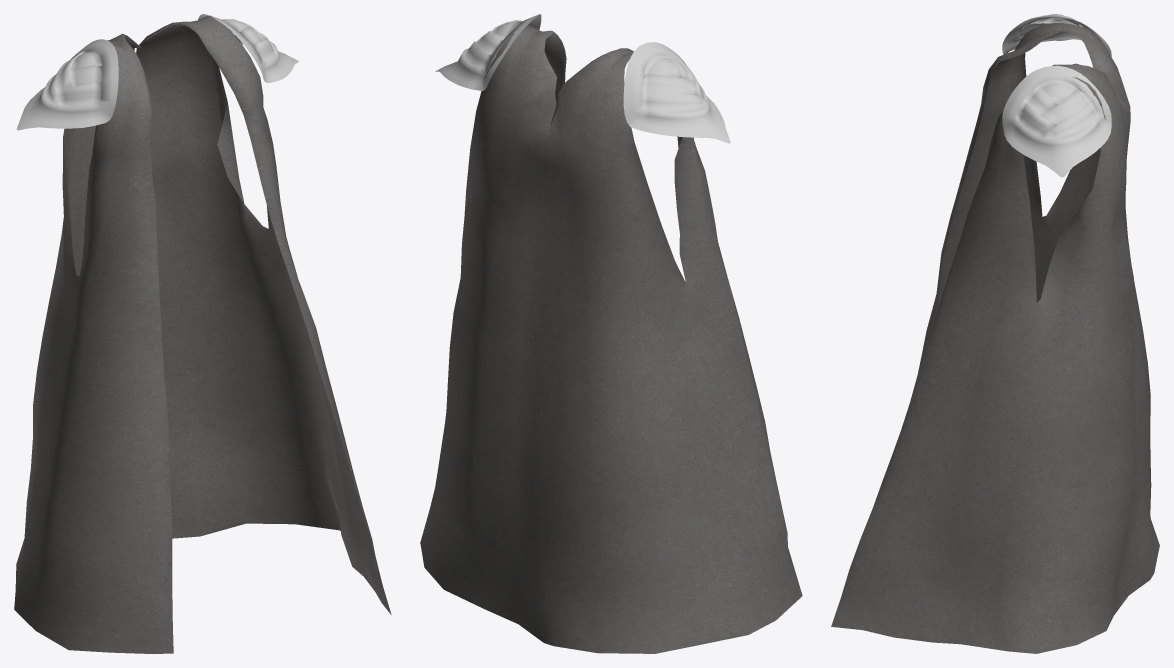
Rendered from rivendell_pauldron_tier2_robe_silver.fbx.
The picture shows the model from 3 angles, left to right: view 1: azimuth 30°, elevation 25°; view 2: azimuth 150°, elevation 25°; view 3: azimuth 270°, elevation 25°; orthographic projection. The views are drawn at different scales.
Visible parts, largest first — view 1: rivendell_pauldron_tier2_robe_silver.0, rivendell_pauldron_tier2_robe_silver.1; view 2: rivendell_pauldron_tier2_robe_silver.0, rivendell_pauldron_tier2_robe_silver.1; view 3: rivendell_pauldron_tier2_robe_silver.0, rivendell_pauldron_tier2_robe_silver.1.
Part boxes in pixels (x1,y1,x2,y2): rivendell_pauldron_tier2_robe_silver.0: [14, 15, 391, 653]; rivendell_pauldron_tier2_robe_silver.1: [16, 14, 298, 130]; rivendell_pauldron_tier2_robe_silver.0: [420, 25, 802, 653]; rivendell_pauldron_tier2_robe_silver.1: [435, 14, 730, 143]; rivendell_pauldron_tier2_robe_silver.0: [831, 23, 1159, 653]; rivendell_pauldron_tier2_robe_silver.1: [1002, 14, 1111, 177].
Bounding box in the file's own units: 0.8449 × 0.7529 × 1.37.
